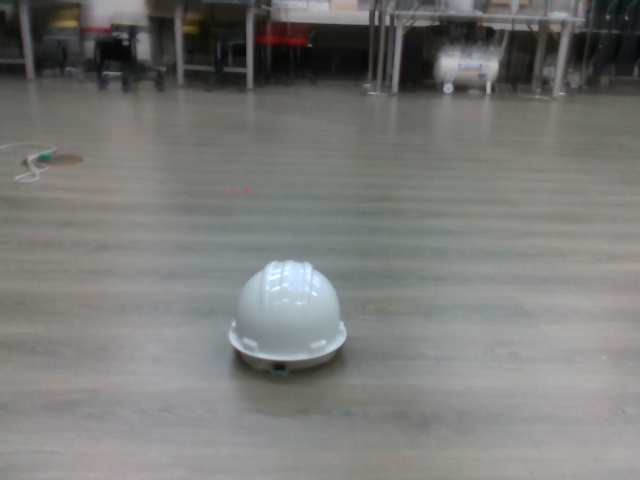helmet: (227, 258, 353, 378)
